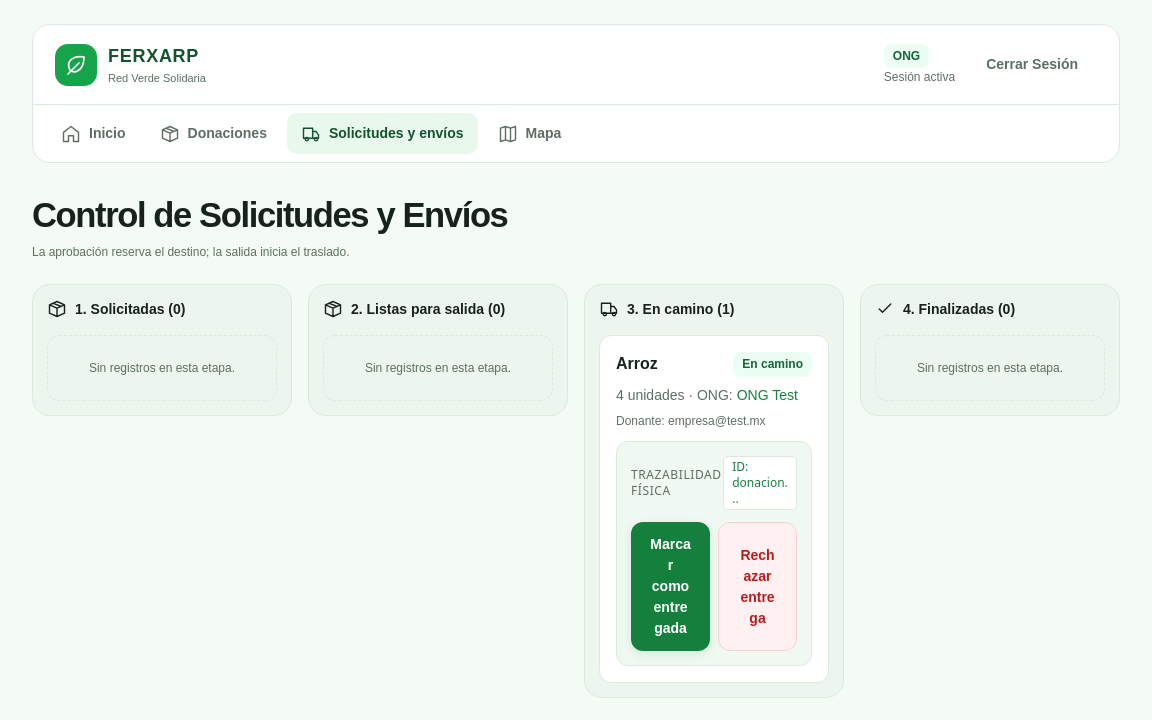
Test: JEST-REJECT-02 motivo válido se recorta y envía rejection_reason
This screenshot has width=1152, height=720.
Click the button "Rechazar entrega" at (758, 587), box 718,522 -> 797,651
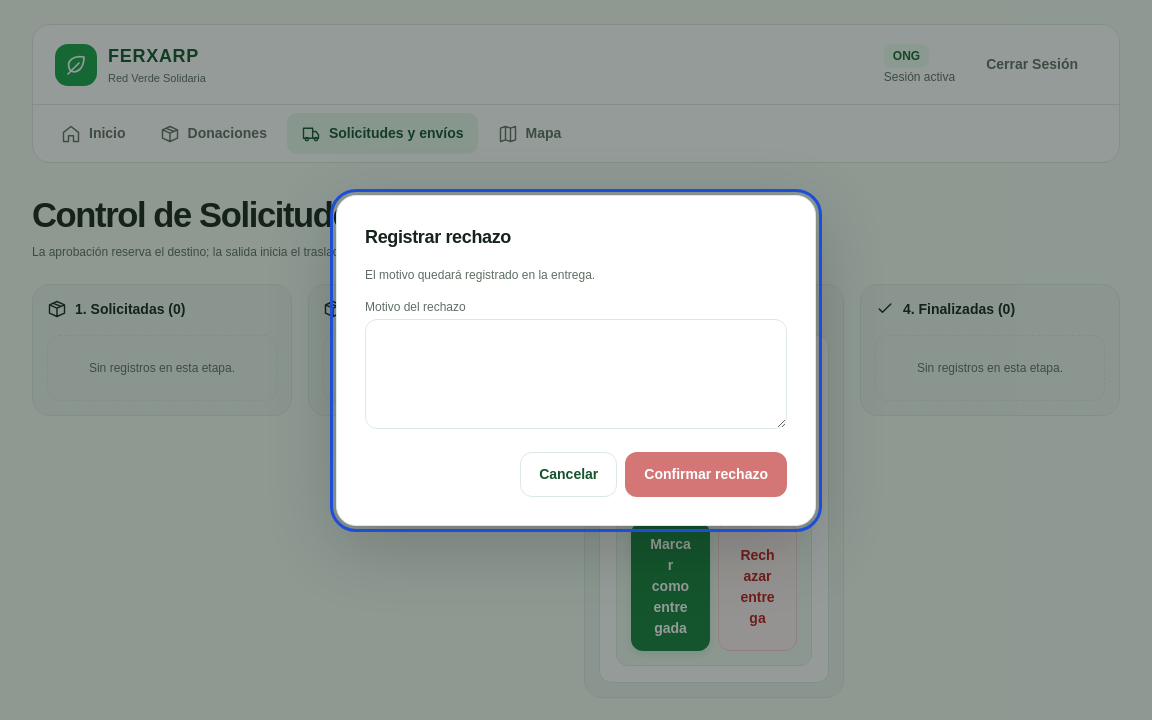
Type "  Envase dañado  " into the text box labelled "Motivo del rechazo" at (576, 374), box 365,318 -> 787,428
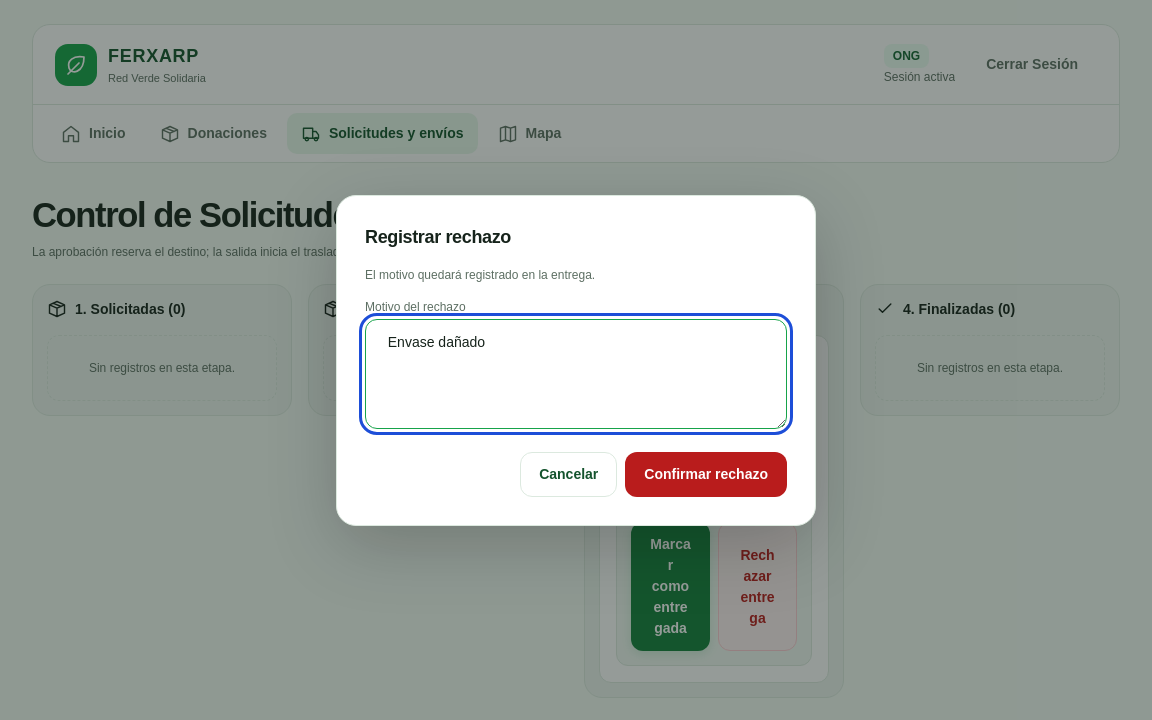
Click the button "Confirmar rechazo" at (706, 474), box 625,452 -> 787,496
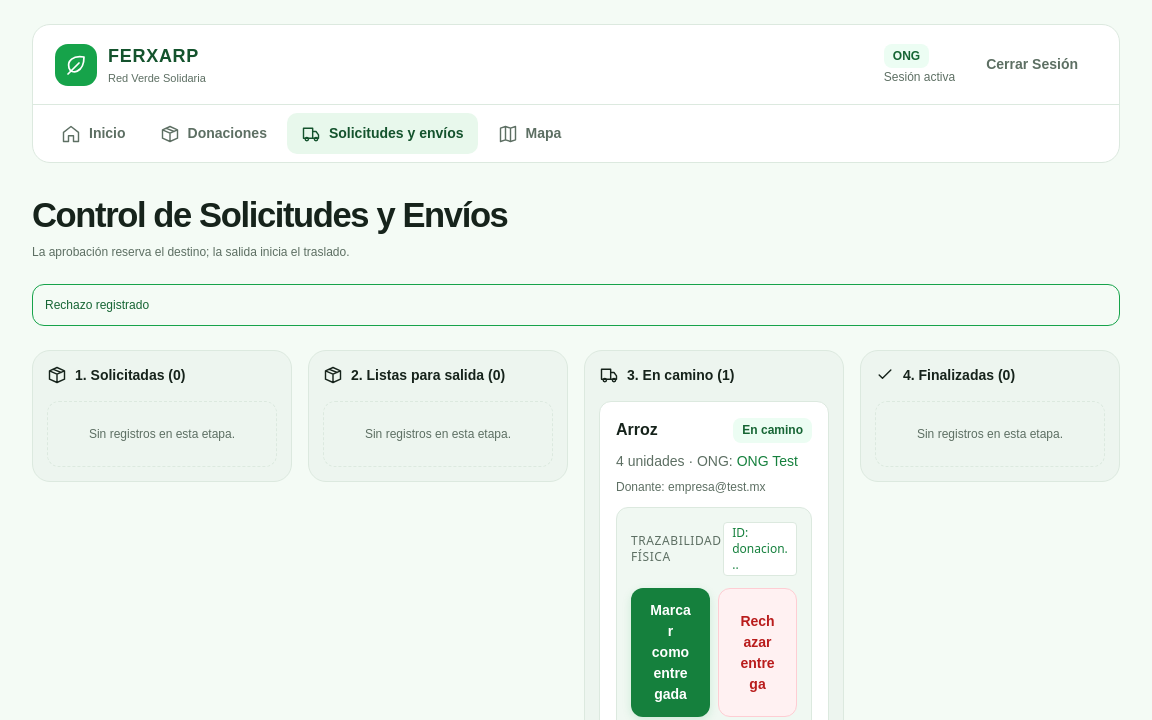
Result: the message reads "Rechazo registrado" at 45,298 -> 149,312
Result: the dialog is gone
